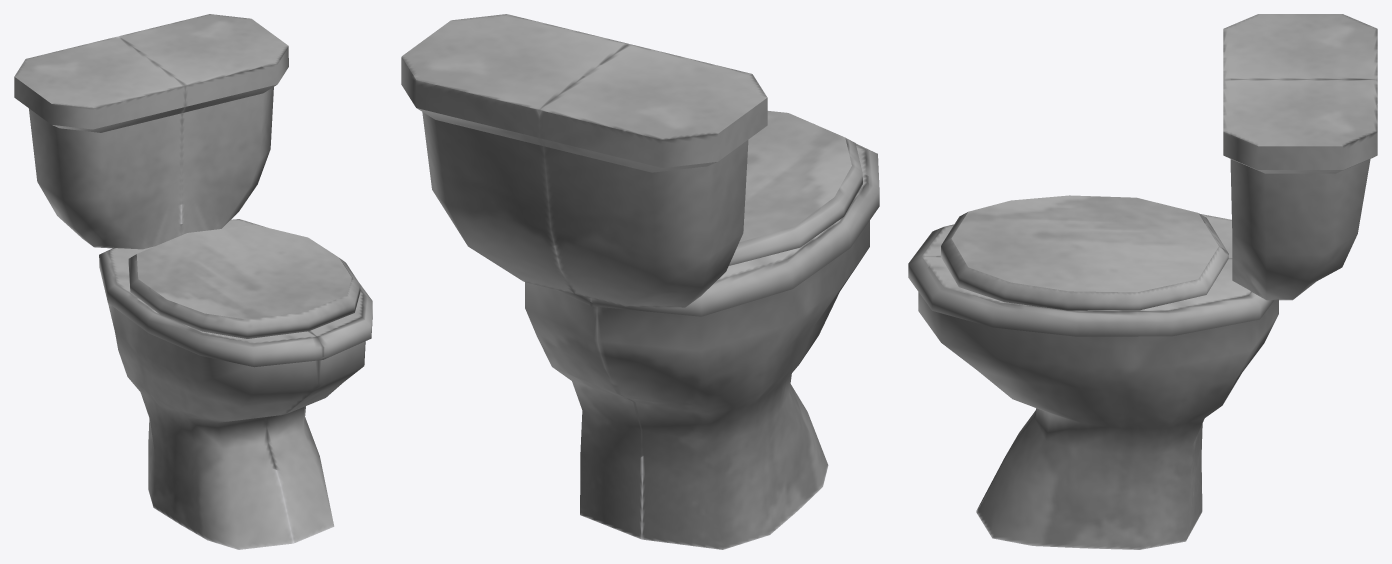
The model's file is toilet.glb.
3 views of the same model, side by side, from view 1: azimuth 30°, elevation 25°; view 2: azimuth 150°, elevation 25°; view 3: azimuth 270°, elevation 25° (orthographic). The views are drawn at different scales.
Visible parts, largest first — view 1: Toilet_2_AssetsC_MAT_0; view 2: Toilet_2_AssetsC_MAT_0; view 3: Toilet_2_AssetsC_MAT_0.
Boxes of the visible parts, left/top/right/bottom form: Toilet_2_AssetsC_MAT_0: left=14, top=14, right=372, bottom=549; Toilet_2_AssetsC_MAT_0: left=401, top=14, right=879, bottom=549; Toilet_2_AssetsC_MAT_0: left=908, top=14, right=1377, bottom=549.
Bounding box in the file's own units: 0.5552 × 0.8467 × 0.8335.
Materials: 1 (1 with a texture image).
